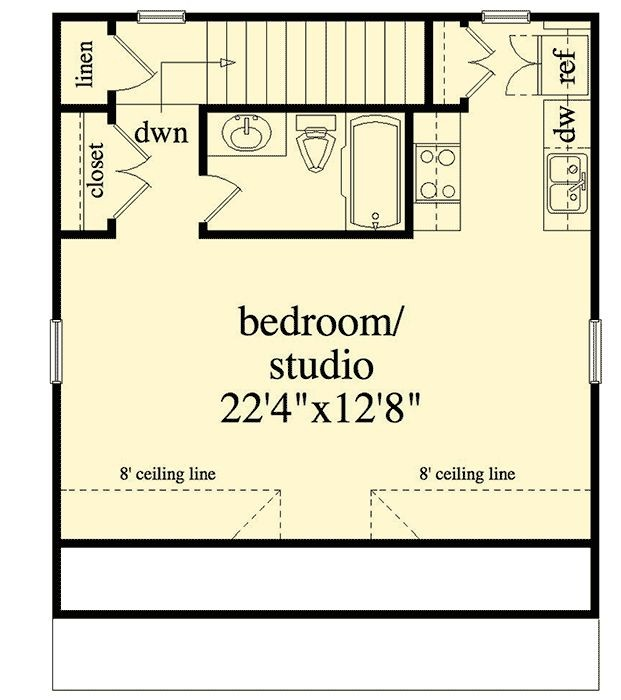door: (103, 123, 169, 223), (103, 35, 162, 95), (193, 174, 256, 228), (458, 24, 499, 103), (507, 26, 544, 103)
room: (54, 233, 600, 617), (58, 15, 426, 103), (198, 102, 412, 235), (412, 103, 595, 234), (60, 106, 205, 236), (434, 20, 592, 103)
wall: (46, 602, 607, 632), (47, 526, 608, 553), (41, 7, 67, 326), (578, 383, 612, 626), (587, 6, 611, 321), (189, 220, 417, 252), (44, 381, 69, 626), (189, 98, 472, 118), (184, 9, 484, 26), (397, 99, 427, 238), (420, 4, 444, 118), (55, 92, 125, 123), (50, 220, 127, 246), (529, 3, 607, 26), (196, 100, 214, 176)
window: (577, 320, 617, 386), (43, 319, 75, 384), (137, 3, 188, 34), (481, 6, 532, 27)
